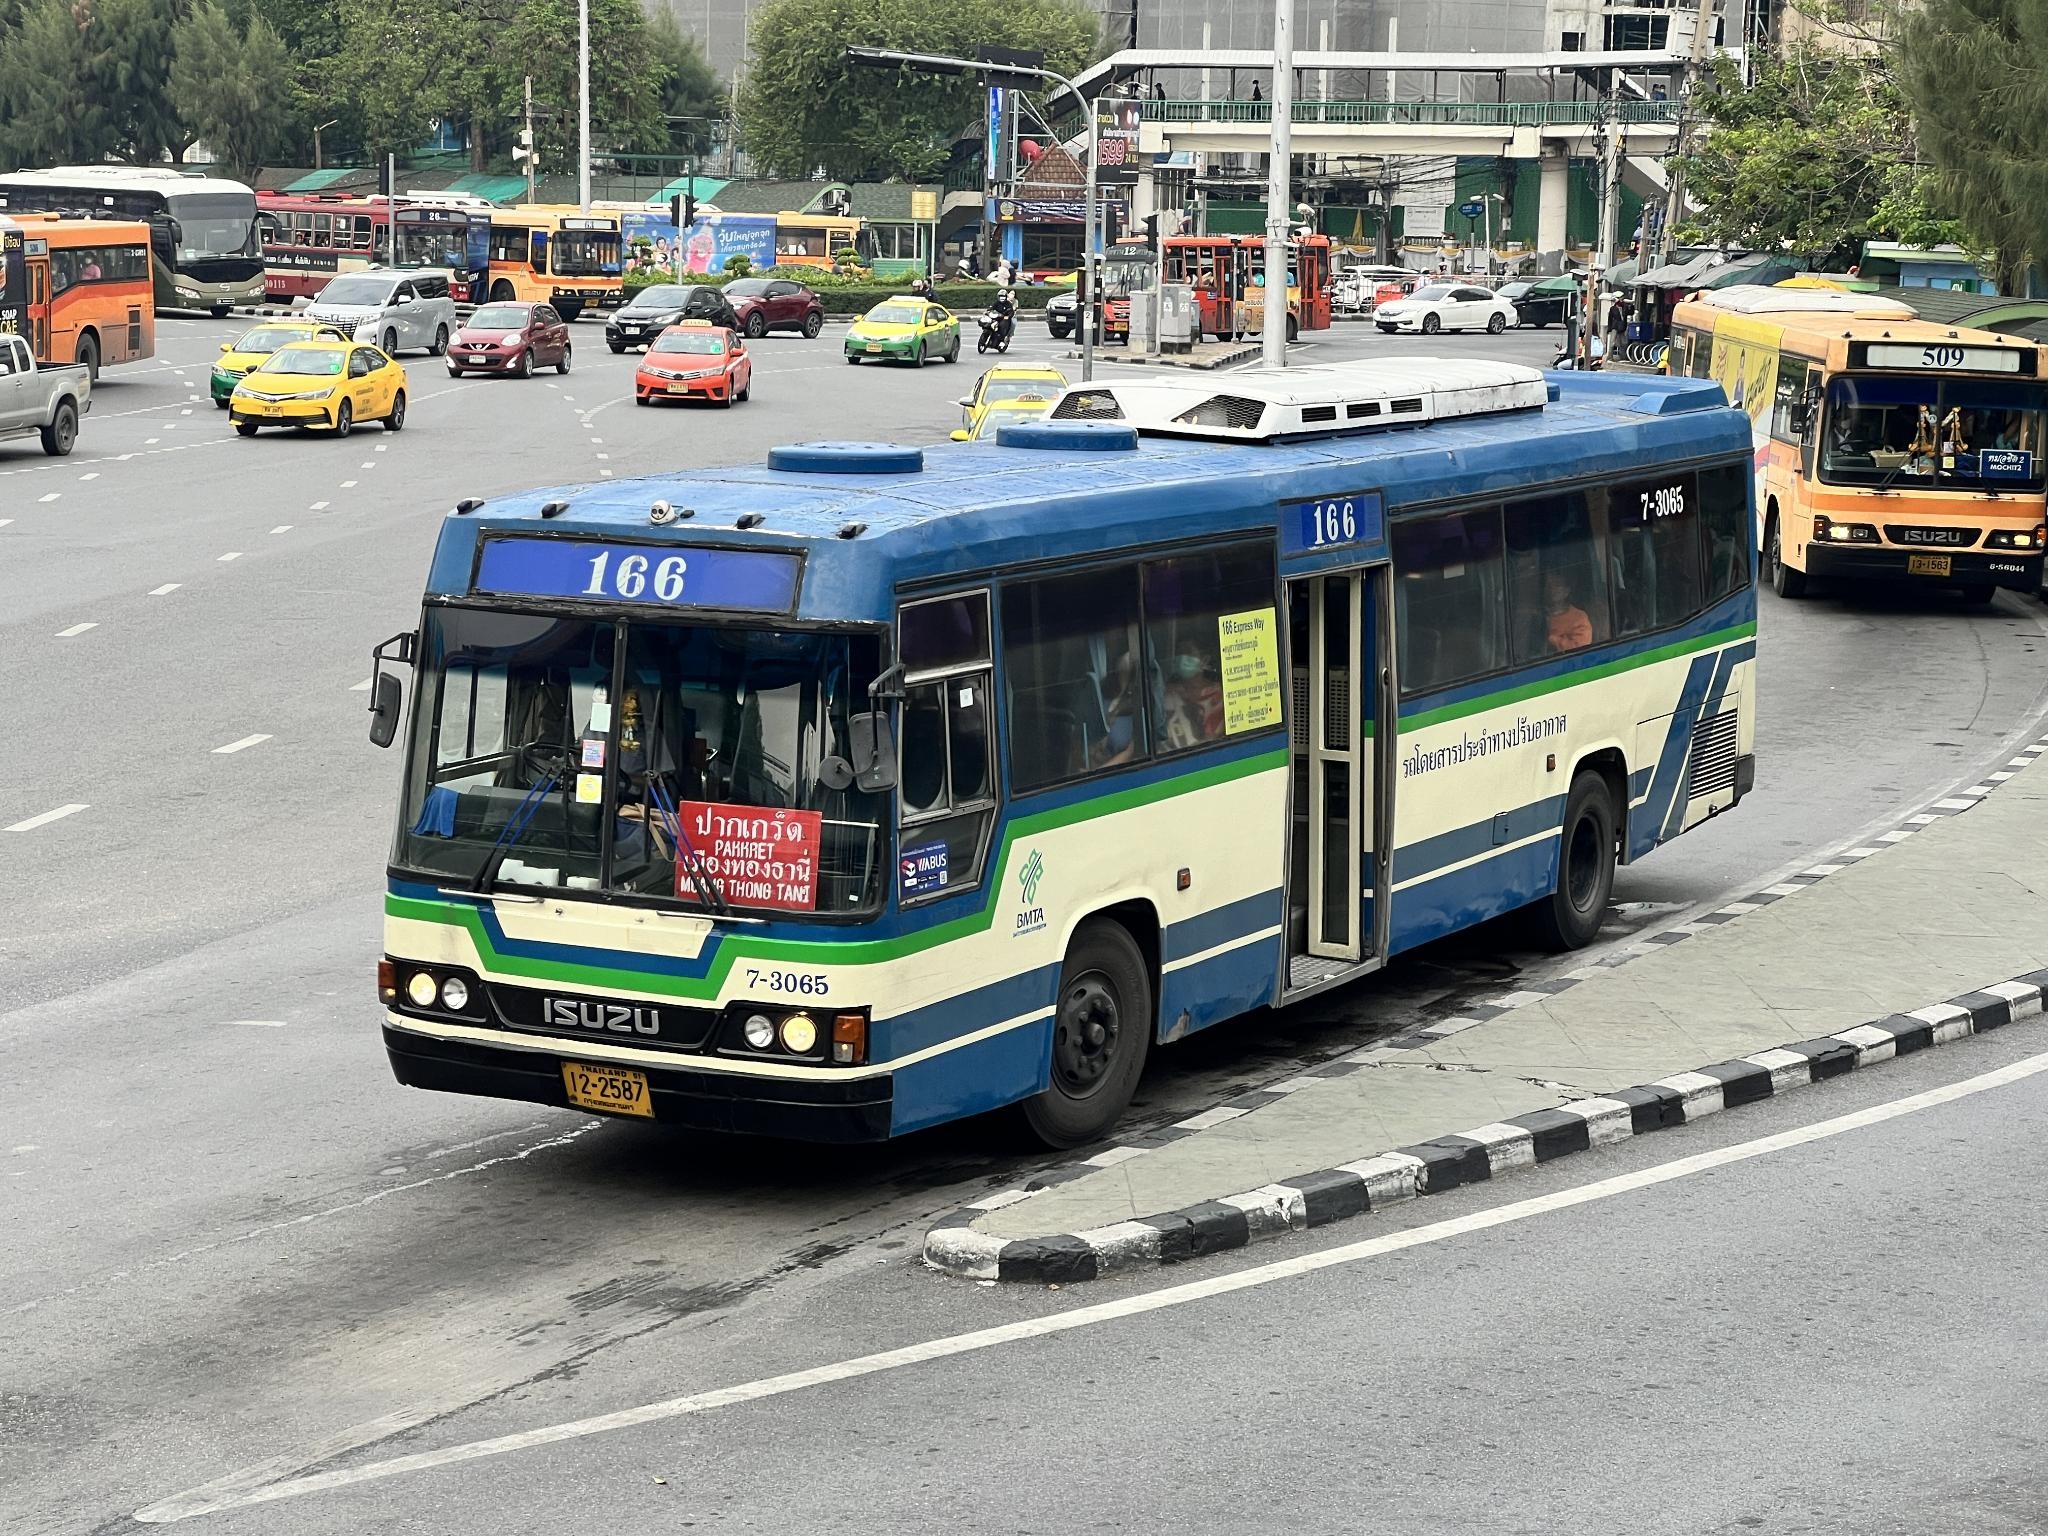BMTA-bus: (368, 363, 1766, 1152), (1675, 279, 2048, 620)
Bus Line Number: (564, 542, 705, 615), (1916, 340, 1967, 371)
Bus Side Number: (735, 955, 847, 1005), (1987, 558, 2029, 574)
Destination Sign: (674, 797, 822, 915), (1982, 447, 2032, 479)
